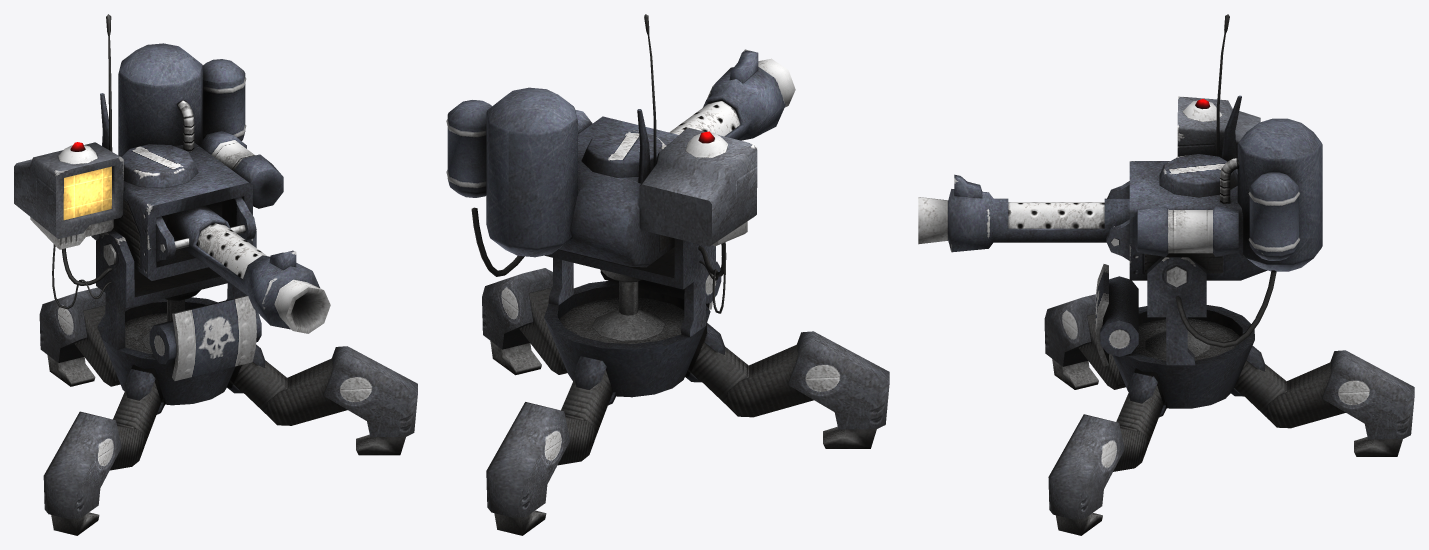
File: turret.fbx
3 renders of one model, left to right at view 1: azimuth 30°, elevation 25°; view 2: azimuth 150°, elevation 25°; view 3: azimuth 270°, elevation 25°, orthographic. The views are drawn at different scales.
Visible parts, largest first — view 1: Turret.001, Turret; view 2: Turret, Turret.001; view 3: Turret, Turret.001.
Boxes of the visible parts, x1,y1,x2,y2 form: Turret.001: (14, 14, 330, 333); Turret: (39, 229, 417, 535); Turret: (471, 207, 889, 535); Turret.001: (446, 14, 795, 267); Turret: (1044, 255, 1414, 535); Turret.001: (918, 14, 1322, 280).
Size of the model in its own units: 1461 by 1599 by 1718.
